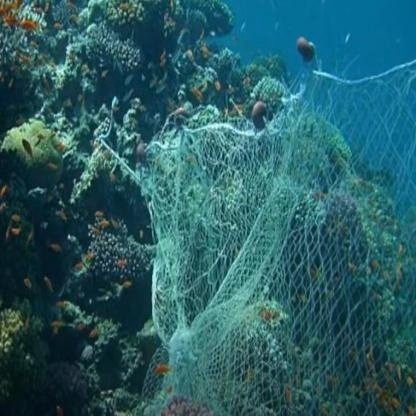net: (184, 103, 416, 412)
